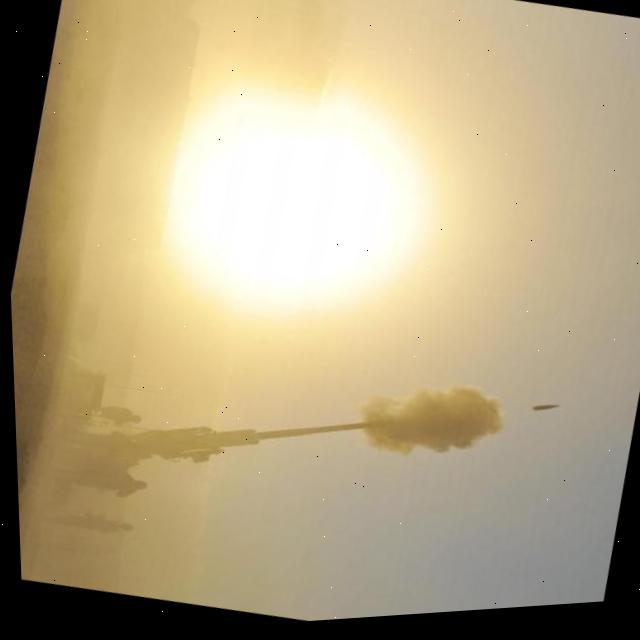missile: (527, 405, 558, 425)
